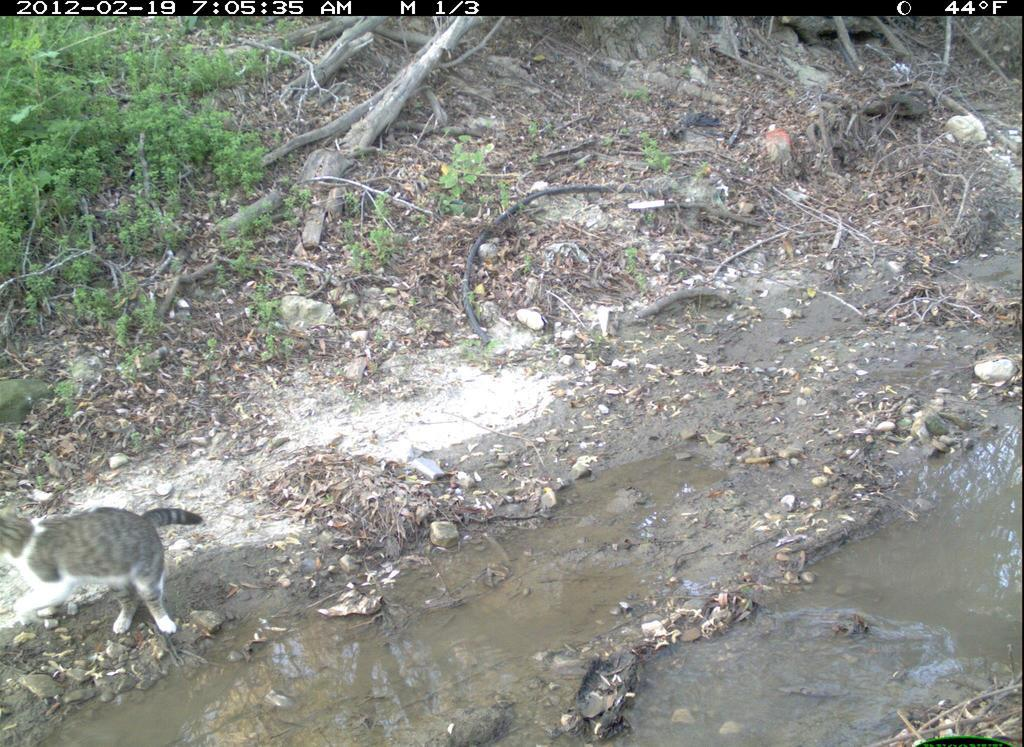cat: (1, 492, 210, 644)
